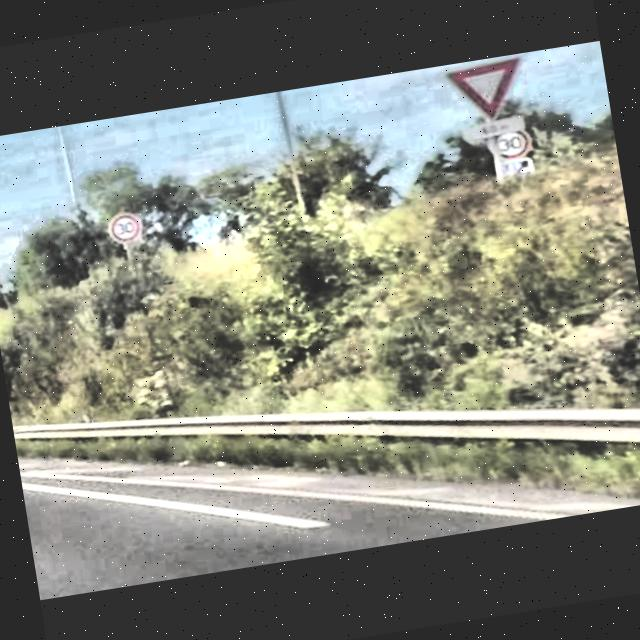speed_30: (494, 126, 532, 159), (110, 212, 142, 244)
